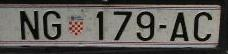-: (159, 25, 167, 29)
1: (96, 11, 103, 40)
7: (113, 11, 132, 39)
9: (136, 11, 154, 40)
A: (170, 12, 189, 41)
C: (194, 12, 211, 41)
G: (43, 11, 61, 39)
N: (20, 11, 39, 39)
